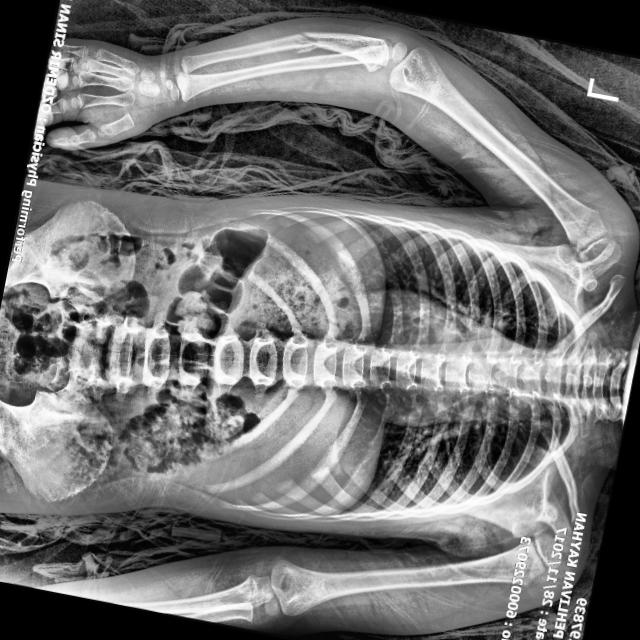Fracture: (276, 15, 330, 55)
